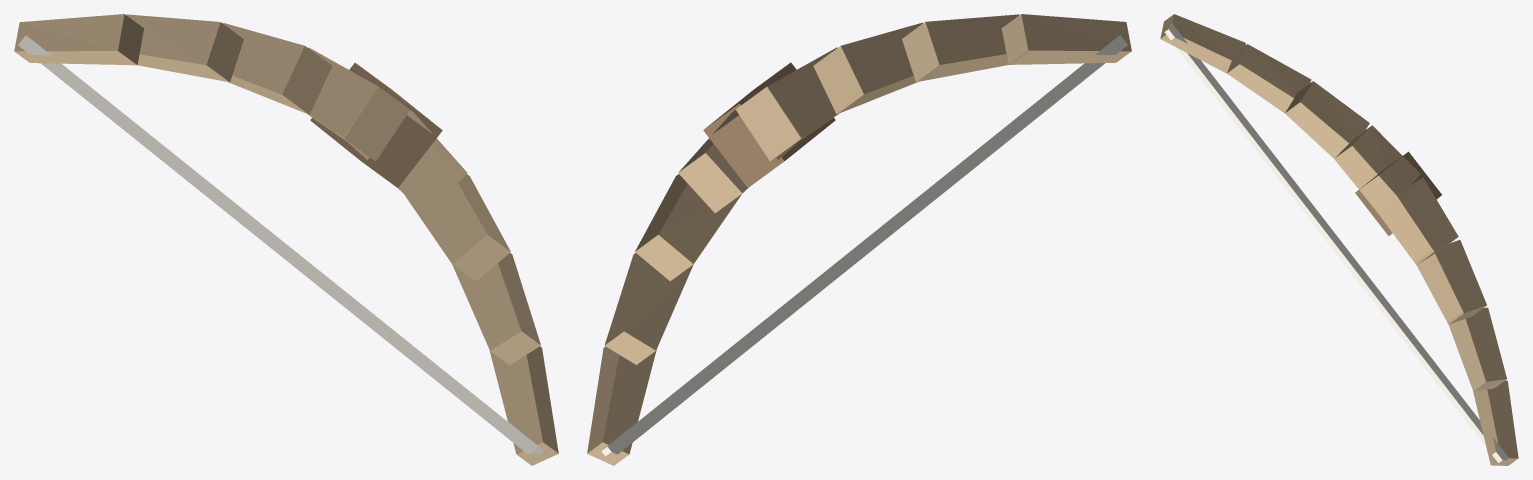
File: load_bow.glb
3 views of the same model, side by side, from view 1: azimuth 30°, elevation 25°; view 2: azimuth 150°, elevation 25°; view 3: azimuth 330°, elevation 25° (orthographic). The views are drawn at different scales.
Parts seen in each view (by area): view 1: Carry.Bow.String, Carry.Bow#6, Carry.Bow#7, Carry.Bow#5, Carry.Bow#8, Carry.Bow#3, Carry.Bow#2, Carry.Bow, Carry.Bow.Grip, Carry.Bow#4; view 2: Carry.Bow.String, Carry.Bow#6, Carry.Bow#7, Carry.Bow#5, Carry.Bow#8, Carry.Bow#3, Carry.Bow#2, Carry.Bow, Carry.Bow.Grip, Carry.Bow#4; view 3: Carry.Bow.String, Carry.Bow#5, Carry.Bow#4, Carry.Bow#3, Carry.Bow#6, Carry.Bow#2, Carry.Bow#7, Carry.Bow, Carry.Bow#8, Carry.Bow.Grip.
Boxes of the visible parts, <box> form: Carry.Bow.String: <box>18,35,544,456</box>; Carry.Bow#6: <box>207,23,332,114</box>; Carry.Bow#7: <box>116,14,243,82</box>; Carry.Bow#5: <box>307,47,409,161</box>; Carry.Bow#8: <box>14,14,143,65</box>; Carry.Bow#3: <box>401,174,510,281</box>; Carry.Bow#2: <box>451,249,540,365</box>; Carry.Bow: <box>489,342,558,465</box>; Carry.Bow.Grip: <box>310,63,442,187</box>; Carry.Bow#4: <box>342,110,467,213</box>; Carry.Bow.String: <box>601,35,1127,456</box>; Carry.Bow#6: <box>813,22,941,114</box>; Carry.Bow#7: <box>902,14,1029,82</box>; Carry.Bow#5: <box>736,47,838,161</box>; Carry.Bow#8: <box>1001,14,1131,64</box>; Carry.Bow#3: <box>635,173,744,281</box>; Carry.Bow#2: <box>604,249,694,364</box>; Carry.Bow: <box>587,341,656,465</box>; Carry.Bow.Grip: <box>703,62,835,187</box>; Carry.Bow#4: <box>678,110,802,213</box>; Carry.Bow.String: <box>1164,23,1508,462</box>; Carry.Bow#5: <box>1334,125,1420,212</box>; Carry.Bow#4: <box>1375,177,1458,264</box>; Carry.Bow#3: <box>1415,240,1486,324</box>; Carry.Bow#6: <box>1285,81,1369,160</box>; Carry.Bow#2: <box>1447,307,1506,391</box>; Carry.Bow#7: <box>1227,44,1311,114</box>; Carry.Bow: <box>1473,380,1518,465</box>; Carry.Bow#8: <box>1160,14,1245,73</box>; Carry.Bow.Grip: <box>1355,151,1441,235</box>.
Bounding box in the file's own units: 1 × 1 × 0.1198.
